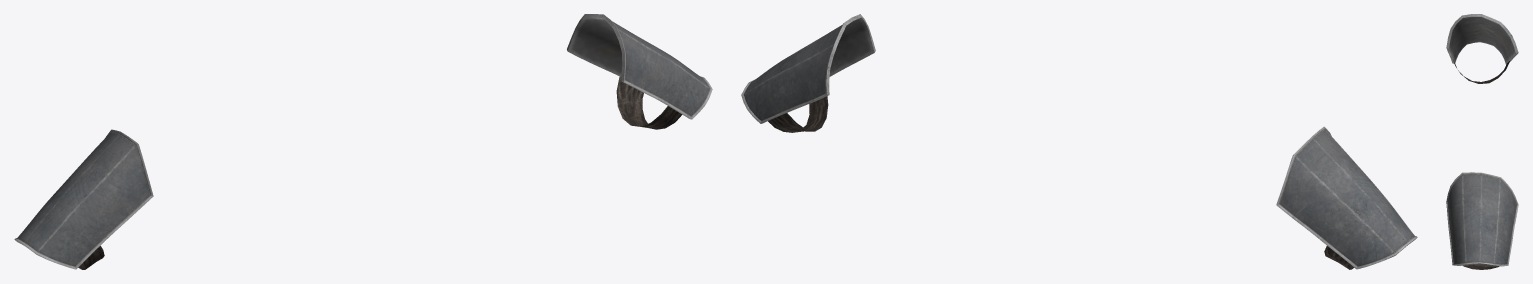
The model's file is sk_dwarf_erebor_bracers_med_a.fbx.
3 renders of one model, left to right at view 1: azimuth 30°, elevation 25°; view 2: azimuth 150°, elevation 25°; view 3: azimuth 270°, elevation 25°, orthographic. The views are drawn at different scales.
Visible parts, largest first — view 1: sk_dwarf_erebor_bracers_med_a.0, sk_dwarf_erebor_bracers_med_a.1; view 2: sk_dwarf_erebor_bracers_med_a.0, sk_dwarf_erebor_bracers_med_a.1; view 3: sk_dwarf_erebor_bracers_med_a.0, sk_dwarf_erebor_bracers_med_a.1.
Boxes of the visible parts, x1,y1,x2,y2 form: sk_dwarf_erebor_bracers_med_a.0: (14,14,712,269); sk_dwarf_erebor_bracers_med_a.1: (78,76,682,269); sk_dwarf_erebor_bracers_med_a.0: (741,14,1417,269); sk_dwarf_erebor_bracers_med_a.1: (768,96,1354,269); sk_dwarf_erebor_bracers_med_a.0: (1446,14,1518,266); sk_dwarf_erebor_bracers_med_a.1: (1453,59,1509,269).
Size of the model in its own units: 1.2 by 0.1646 by 0.2085.
2 materials, 2 textured.
